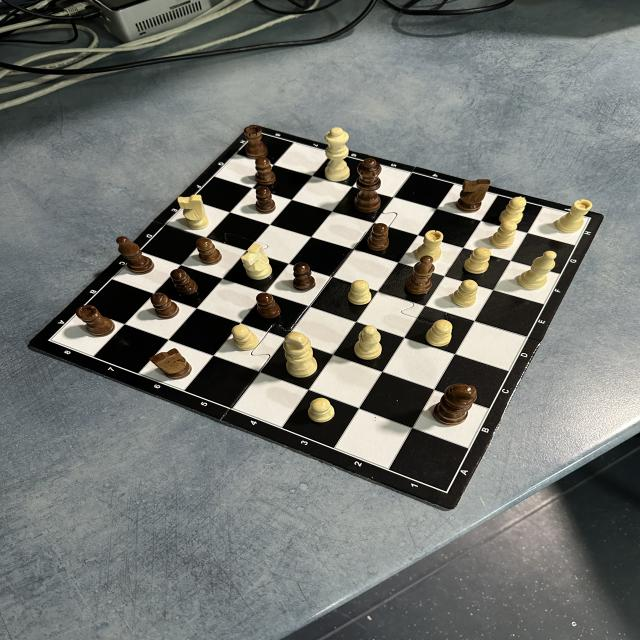Black-Bishop: (115, 237, 155, 274), (403, 255, 435, 295)
Black-King: (433, 382, 477, 425)
Black-Knight: (151, 348, 192, 380), (456, 179, 491, 213)
Black-Pawn: (150, 292, 178, 320), (170, 269, 198, 296), (292, 262, 316, 291), (366, 223, 389, 252), (255, 293, 280, 319), (198, 238, 222, 264), (256, 186, 276, 214), (256, 158, 276, 184)
Black-Queen: (352, 159, 382, 212)
Black-Rook: (77, 305, 115, 337), (244, 125, 267, 159)
White-Bishop: (518, 250, 557, 290), (355, 325, 381, 361)
White-King: (284, 331, 318, 378)
White-Knight: (242, 243, 272, 281), (179, 195, 209, 230)
White-Pawn: (426, 320, 454, 347), (452, 279, 478, 308), (232, 324, 259, 351), (491, 220, 517, 248), (307, 397, 336, 422), (464, 246, 491, 272), (500, 196, 526, 222), (348, 280, 372, 306)
White-Queen: (325, 127, 348, 180)
White-Rook: (555, 199, 592, 232), (414, 230, 444, 260)
